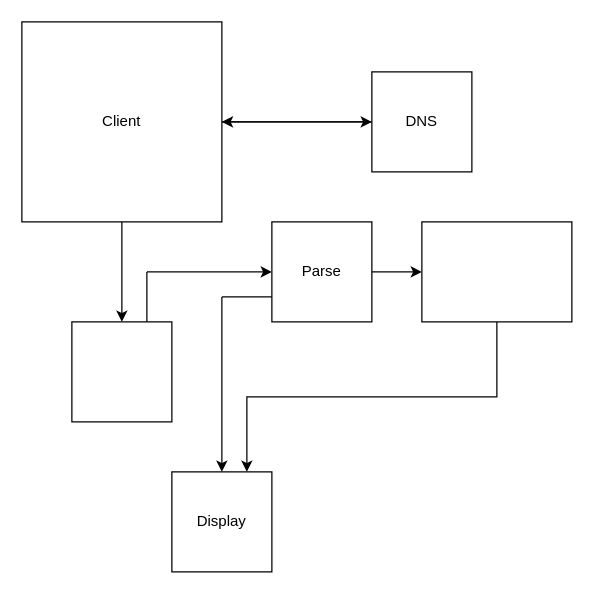
Image size: 594x594. Some labels were removed from this diagram. The shapes that lost their labels are listed below. From the top down, each one's centre as x and y in pixels, then its label:
At (x=496, y=271): "Cranberry Script runs and could modify content".
At (x=121, y=371): "Server".
